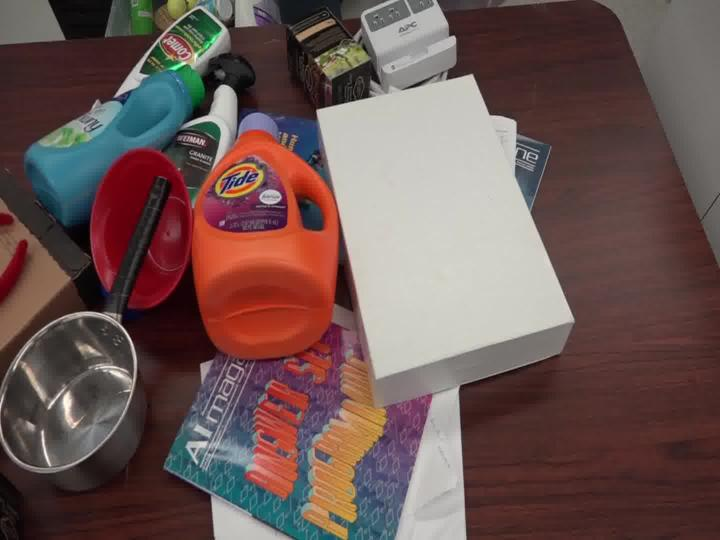tide: (165, 78, 360, 356)
